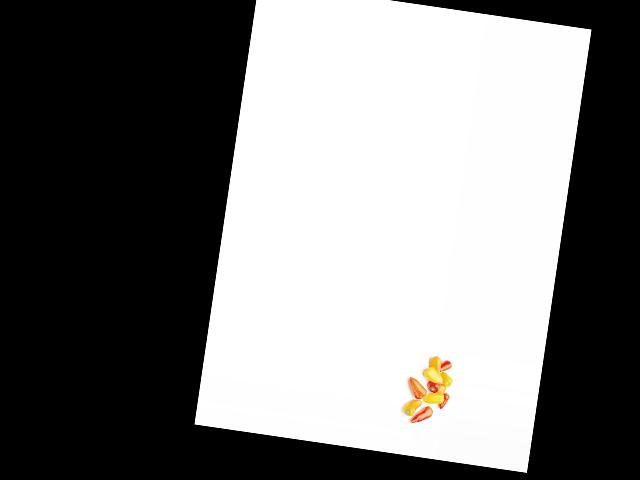bell_pepper: (438, 391, 451, 412)
